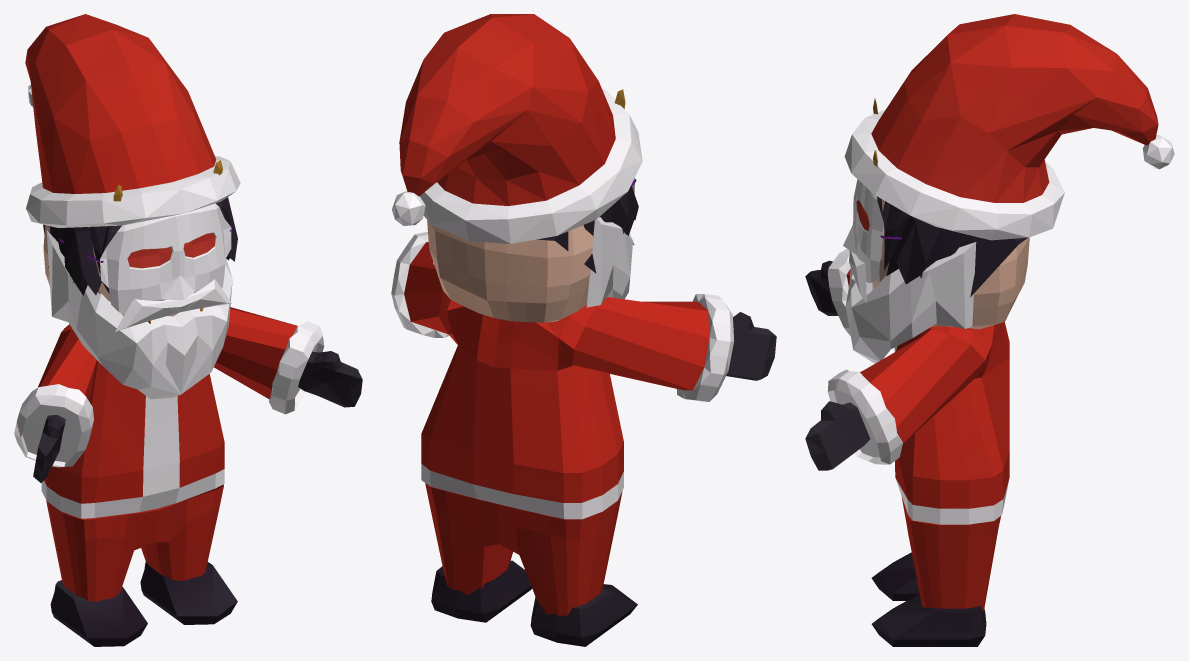
The model's file is santa_a.glb.
3 renders of one model, left to right at view 1: azimuth 30°, elevation 25°; view 2: azimuth 150°, elevation 25°; view 3: azimuth 270°, elevation 25°, orthographic. The views are drawn at different scales.
Parts seen in each view (by area): view 1: huku-a, boushi-a, hige-a, zubon-a, kao-a-men, kutu-r-a, kutu-l-a, kami-a, hanahige-a; view 2: huku-a, boushi-a, zubon-a, kao-a, kutu-r-a, kutu-l-a, hige-a, kami-a; view 3: boushi-a, huku-a, hige-a, zubon-a, kami-a, kutu-l-a, kao-a, kao-a-men, kutu-r-a.
Boxes of the visible parts, <box> form: huku-a: <box>14,307,362,518</box>; boushi-a: <box>25,14,240,227</box>; hige-a: <box>46,230,232,399</box>; zubon-a: <box>46,484,223,601</box>; kao-a-men: <box>59,160,232,323</box>; kutu-r-a: <box>50,580,147,646</box>; kutu-l-a: <box>140,561,237,624</box>; kami-a: <box>43,197,237,295</box>; hanahige-a: <box>115,279,231,331</box>; huku-a: <box>391,231,776,519</box>; boushi-a: <box>392,14,642,243</box>; zubon-a: <box>425,483,622,615</box>; kao-a: <box>427,220,593,322</box>; kutu-r-a: <box>530,584,637,646</box>; kutu-l-a: <box>431,560,531,622</box>; hige-a: <box>433,217,632,307</box>; kami-a: <box>537,185,638,273</box>; boushi-a: <box>844,14,1174,240</box>; huku-a: <box>805,249,1009,524</box>; hige-a: <box>845,242,976,363</box>; zubon-a: <box>901,496,1000,611</box>; kami-a: <box>882,201,1027,296</box>; kutu-l-a: <box>871,594,986,646</box>; kao-a: <box>872,199,1029,329</box>; kao-a-men: <box>843,98,901,282</box>; kutu-r-a: <box>871,552,919,600</box>.
Bounding box in the file's own units: 5.44 × 9.12 × 5.19.
12 materials, 12 textured.
